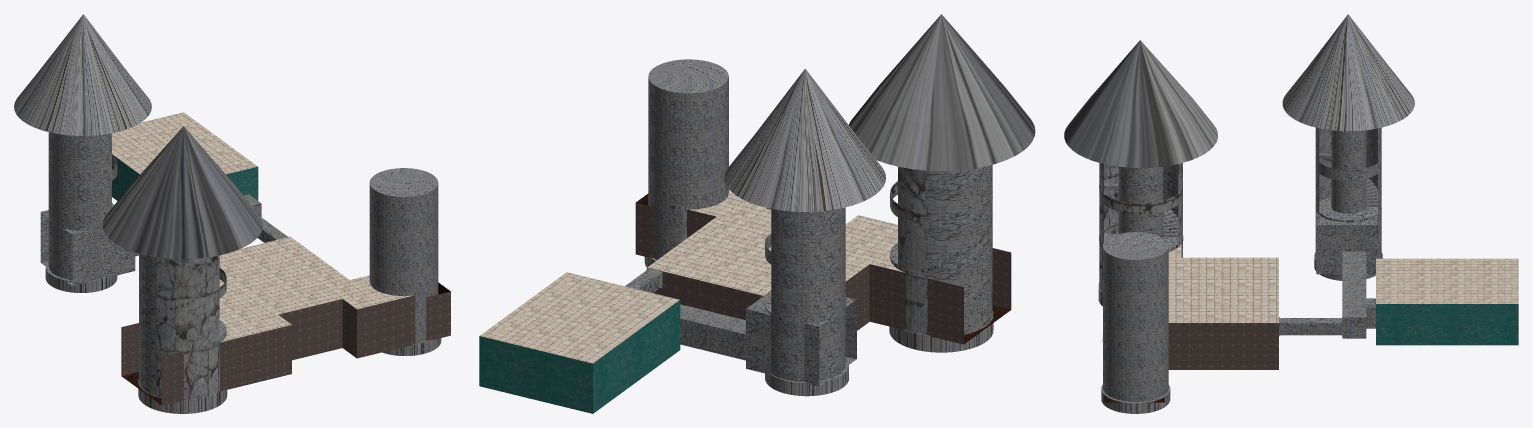
Rendered from castle_inside_scene_lvl_0.fbx.
3 renders of one model, left to right at view 1: azimuth 30°, elevation 25°; view 2: azimuth 150°, elevation 25°; view 3: azimuth 270°, elevation 25°, orthographic. The views are drawn at different scales.
Visible parts, largest first — view 1: Cylinder.003, Cube.016, Cylinder.005, Cylinder, Cube.017, Circle.012, Circle.024, Circle.020; view 2: Cylinder.003, Cube.017, Cylinder.005, Cube.016, Cylinder, Circle.012, Circle.024, Cube.005; view 3: Cube.017, Cylinder.003, Cube.016, Cylinder.005, Cylinder, Cylinder.002, Cylinder.004, Cube.005, Circle.020, Circle.018, Circle.008.
Boxes of the visible parts, left/top/right/bottom form: Cylinder.003: left=102, top=126, right=262, bottom=399; Cube.016: left=121, top=236, right=450, bottom=405; Cylinder.005: left=14, top=14, right=151, bottom=280; Cylinder: left=369, top=168, right=438, bottom=343; Cube.017: left=40, top=112, right=261, bottom=285; Circle.012: left=138, top=379, right=227, bottom=413; Circle.024: left=45, top=261, right=117, bottom=292; Circle.020: left=382, top=338, right=441, bottom=355; Cylinder.003: left=849, top=14, right=1035, bottom=335; Cube.017: left=479, top=272, right=856, bottom=413; Cylinder.005: left=724, top=68, right=885, bottom=381; Cube.016: left=635, top=189, right=1011, bottom=344; Cylinder: left=648, top=59, right=728, bottom=259; Circle.012: left=889, top=311, right=993, bottom=352; Circle.024: left=765, top=359, right=848, bottom=396; Cube.005: left=625, top=268, right=662, bottom=292; Cube.017: left=1316, top=197, right=1518, bottom=345; Cylinder.003: left=1064, top=40, right=1217, bottom=291; Cube.016: left=1103, top=244, right=1278, bottom=402; Cylinder.005: left=1282, top=14, right=1414, bottom=258; Cylinder: left=1103, top=232, right=1168, bottom=401; Cylinder.002: left=1118, top=166, right=1163, bottom=237; Cylinder.004: left=1331, top=130, right=1366, bottom=213; Cube.005: left=1279, top=317, right=1342, bottom=336; Circle.020: left=1101, top=384, right=1170, bottom=413; Circle.018: left=1315, top=206, right=1381, bottom=222; Circle.008: left=1099, top=183, right=1178, bottom=236.
Bounding box in the file's own units: 1079 × 966 × 1379.
